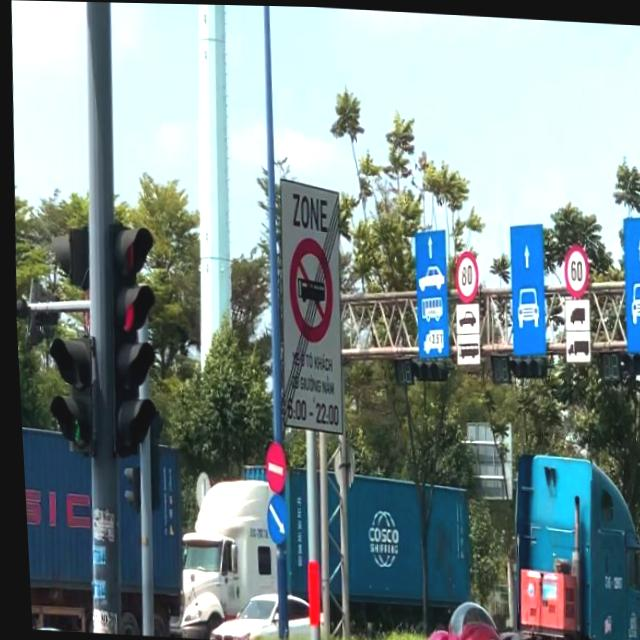Cam di nguoc chieu: (257, 438, 283, 492)
Toc do toi da cho phep: (449, 249, 478, 298), (560, 241, 585, 292)
Vong chuong ngai vat sang phai: (257, 490, 285, 546)
